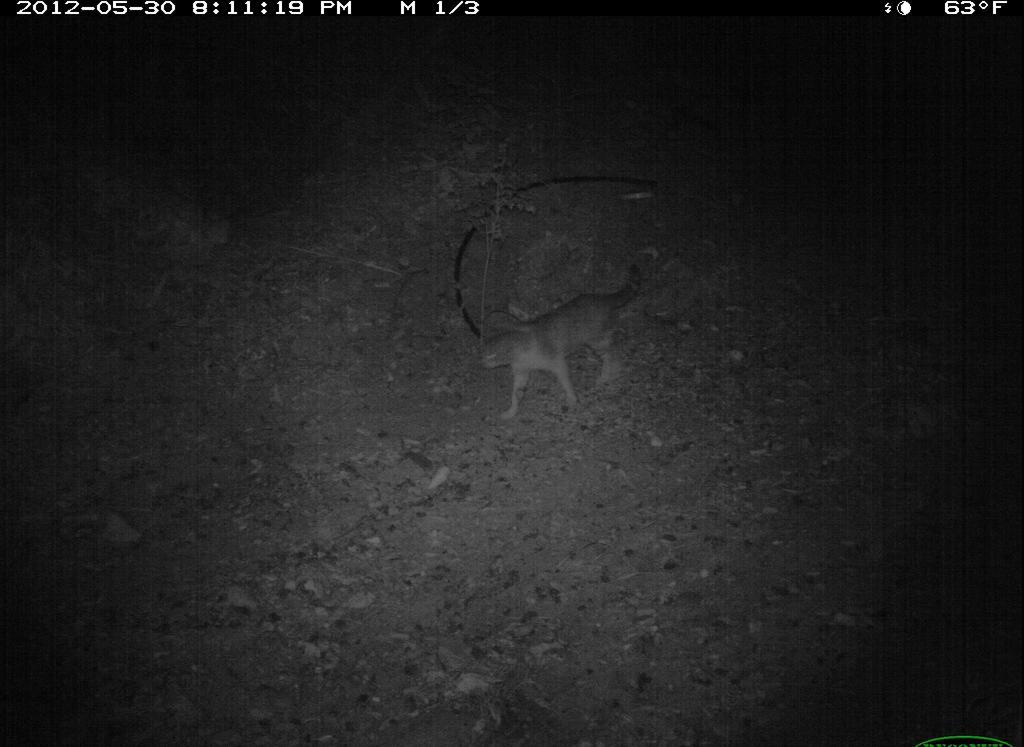cat: (472, 258, 651, 425)
